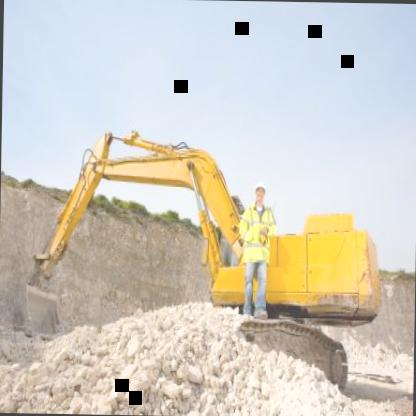helmet: (254, 180, 268, 206)
